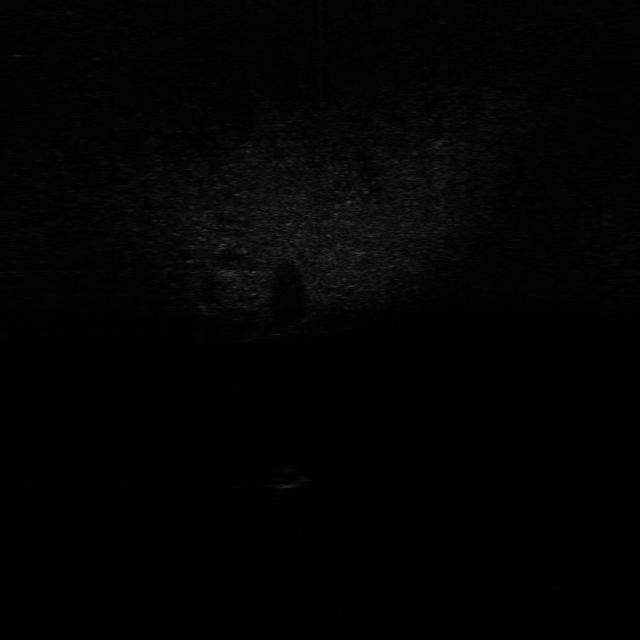ball: (260, 462, 314, 491)
